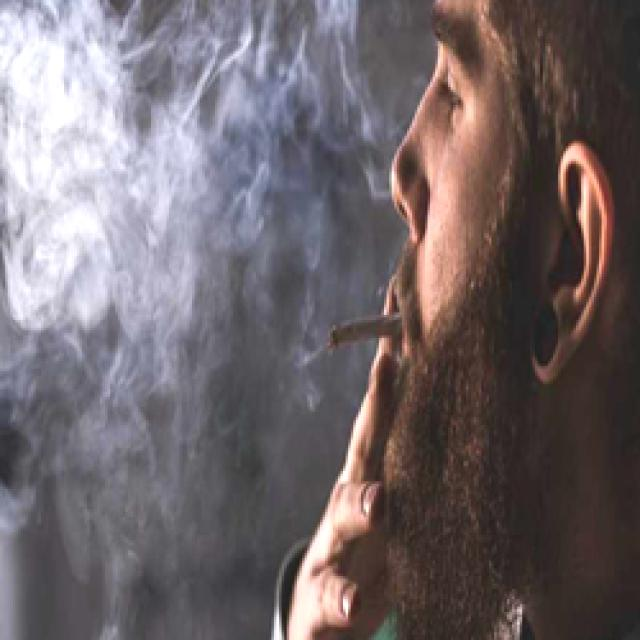Smooking: (309, 304, 405, 354)
